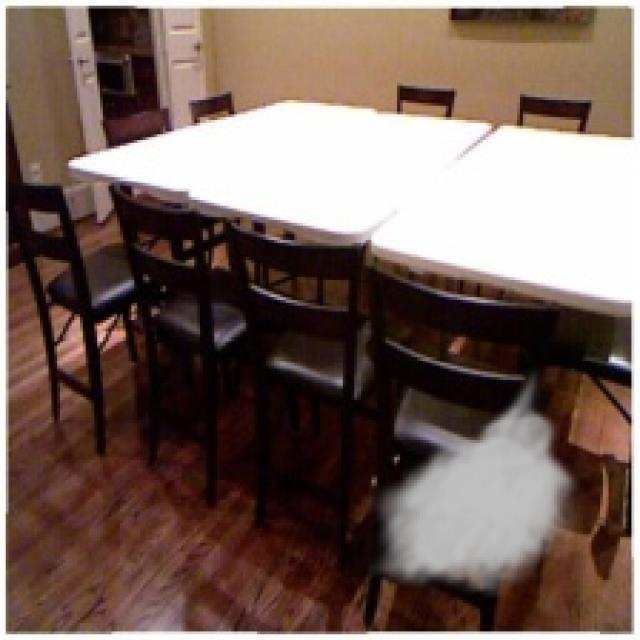smoke: (366, 366, 583, 597)
